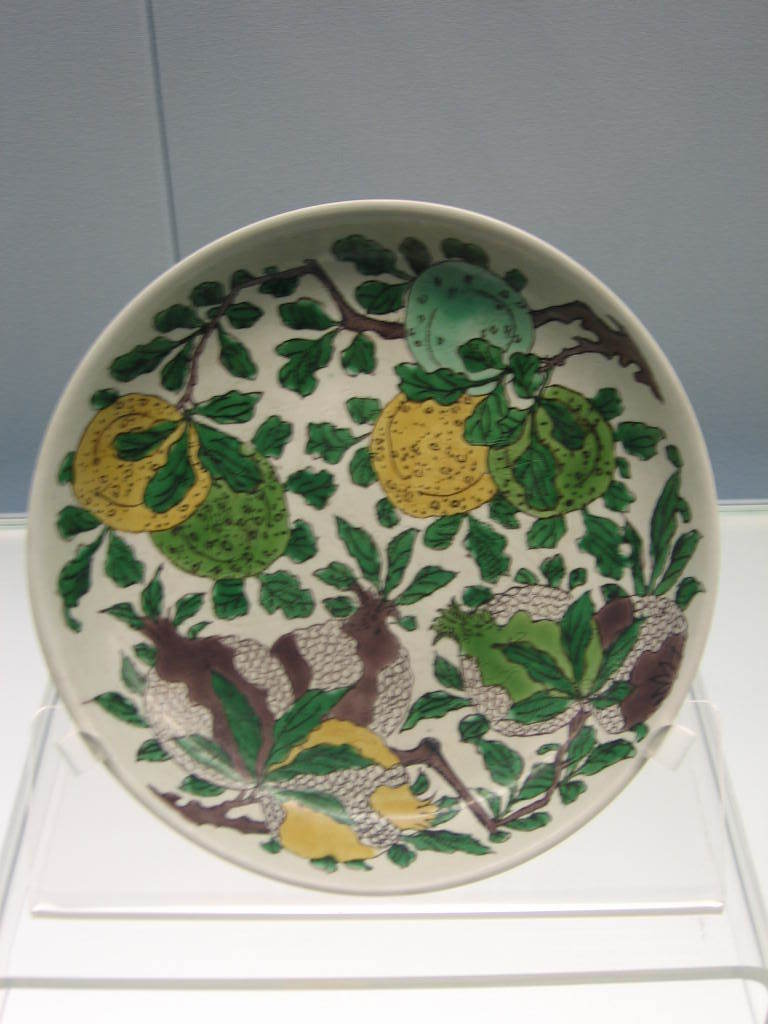plate: (10, 186, 727, 899)
